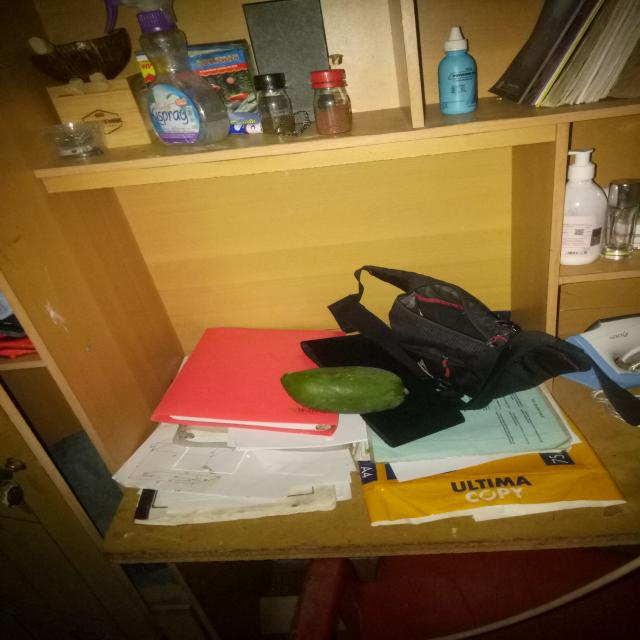Pepaya unrippen: (273, 364, 404, 414)
